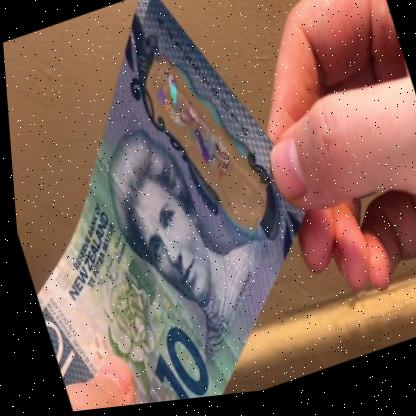10B: (143, 59, 236, 199)
